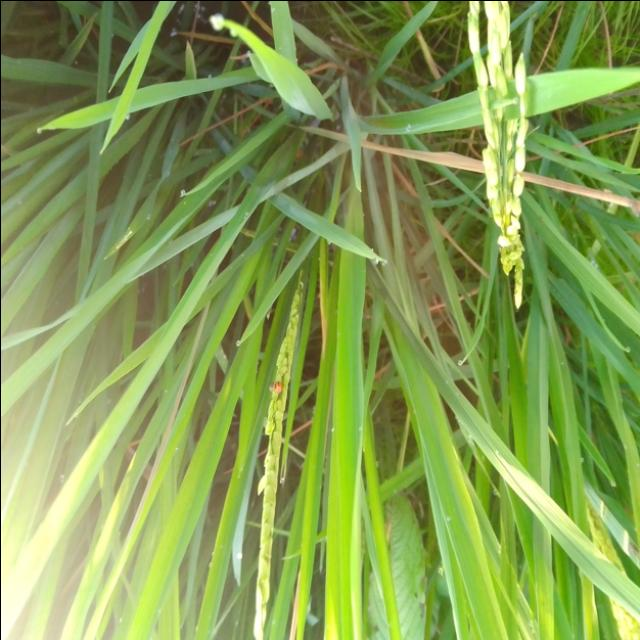Brown spot: (322, 124, 484, 179), (511, 155, 640, 220)
